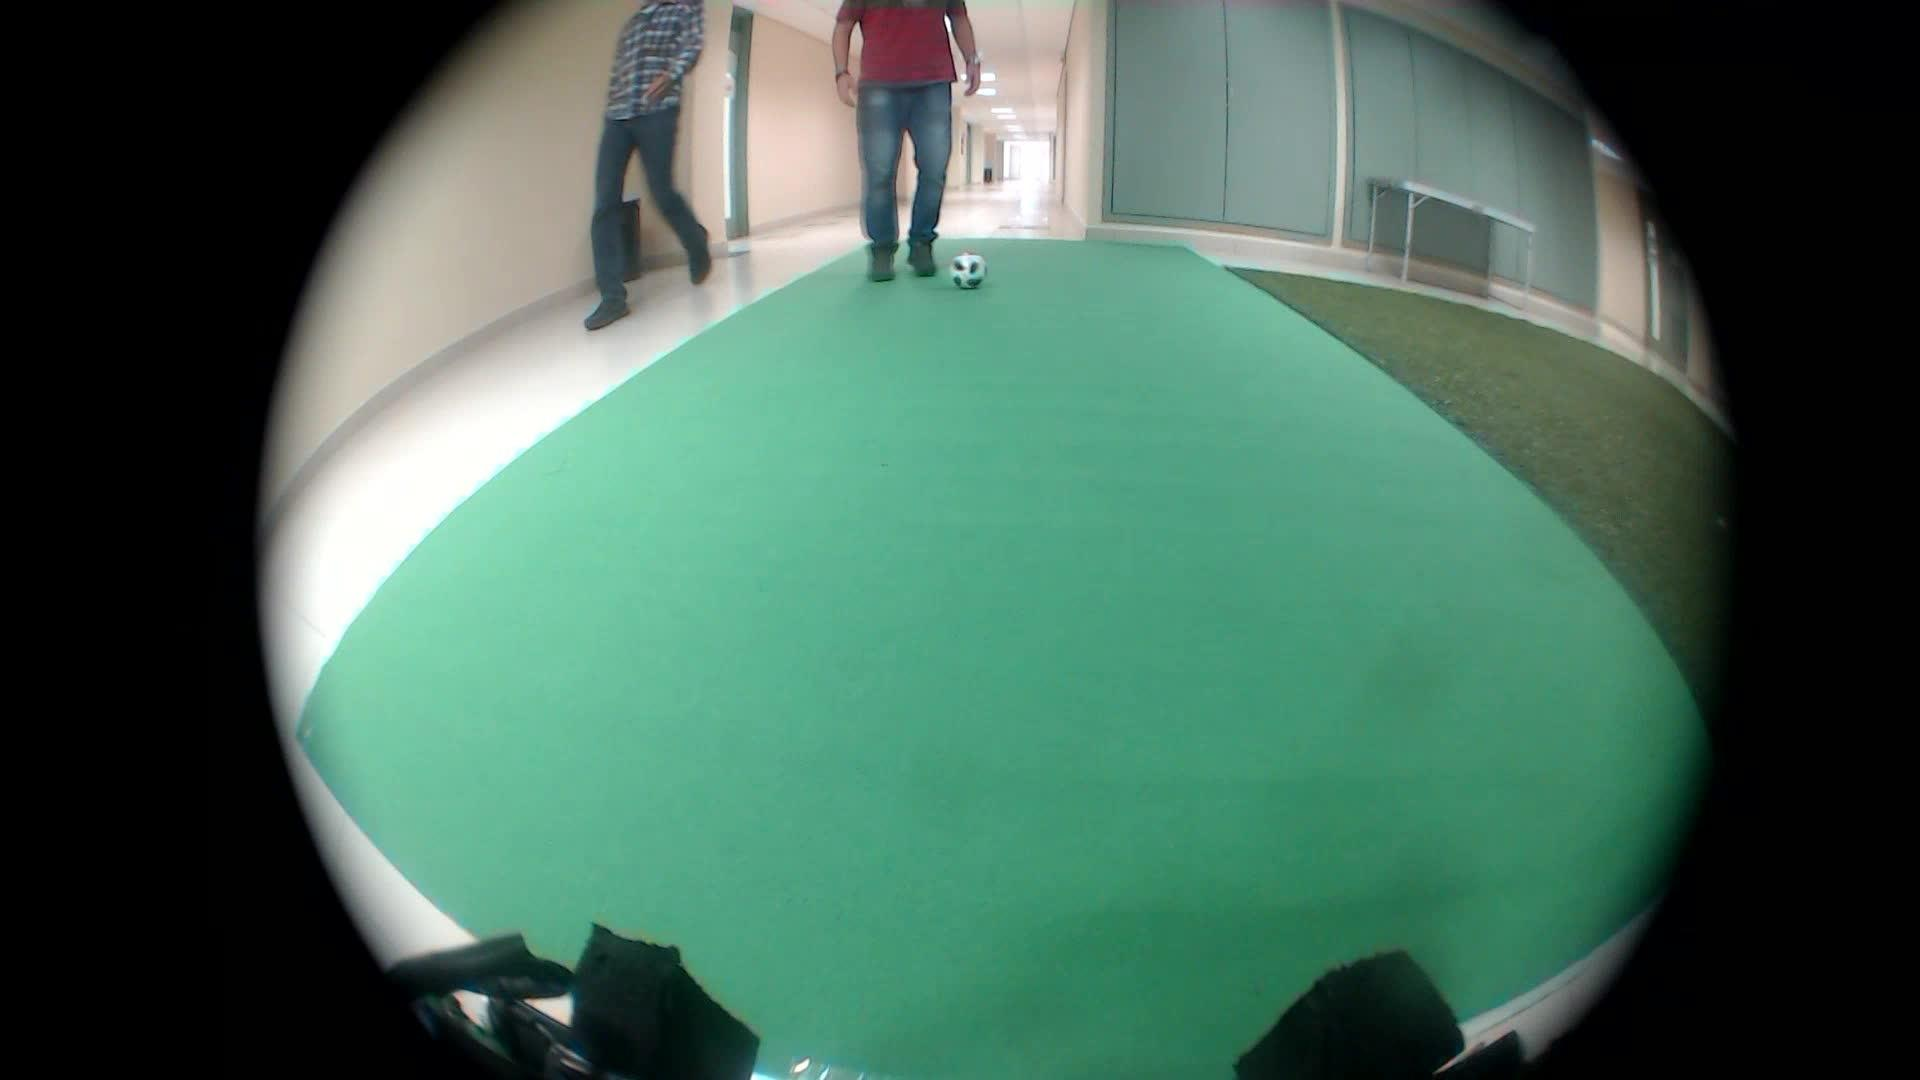ball: (947, 243, 997, 295)
